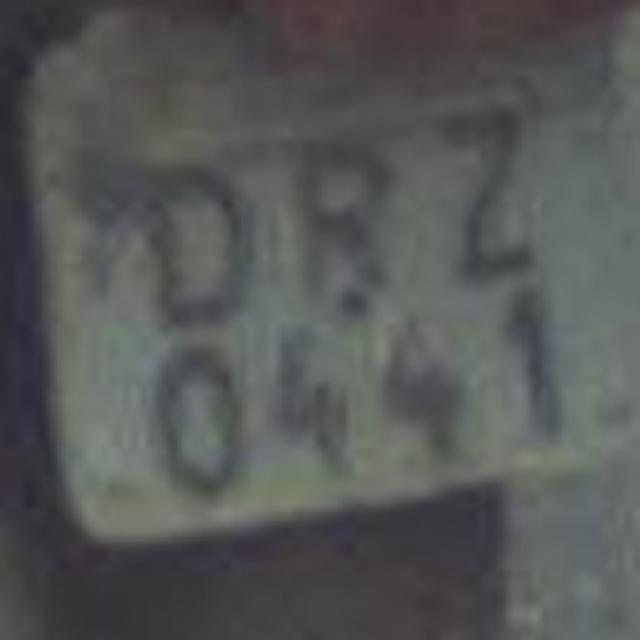1: (465, 276, 600, 452)
4: (356, 276, 492, 469), (252, 304, 376, 484)
P: (272, 128, 416, 300)
Z: (404, 96, 556, 276)
